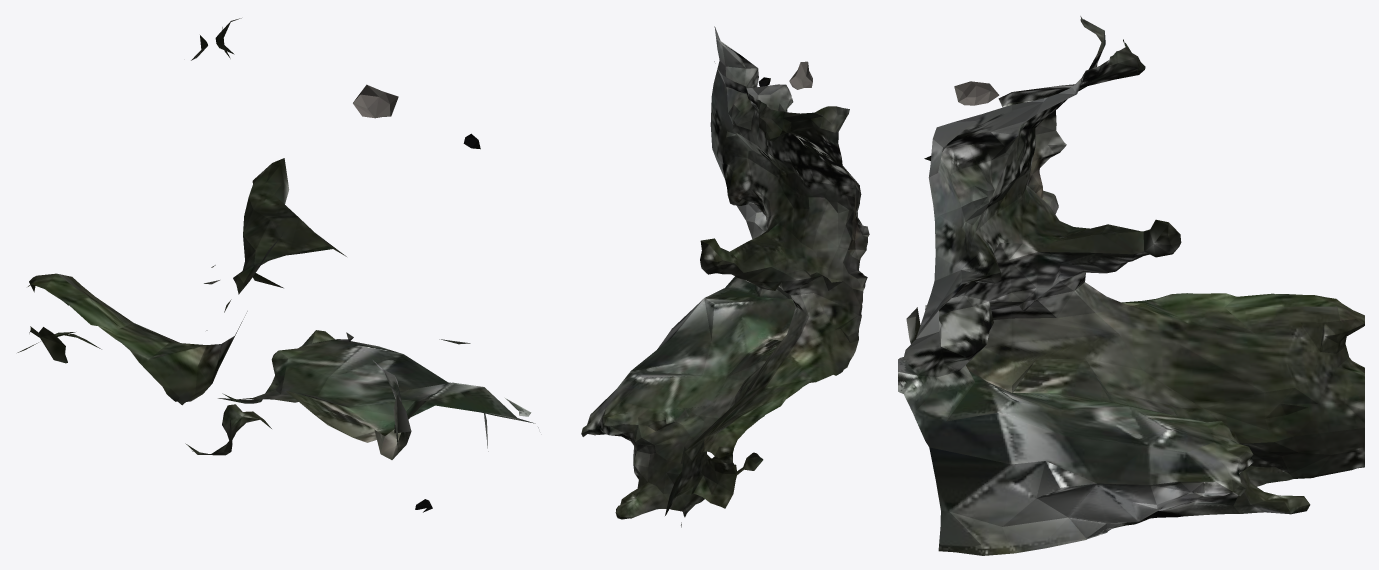
The picture shows the model from 3 angles, left to right: view 1: azimuth 30°, elevation 25°; view 2: azimuth 150°, elevation 25°; view 3: azimuth 270°, elevation 25°; orthographic projection. The views are drawn at different scales.
Size of the model in its own units: 2.02 by 3.35 by 3.35.
Materials: 3 (3 with a texture image).
